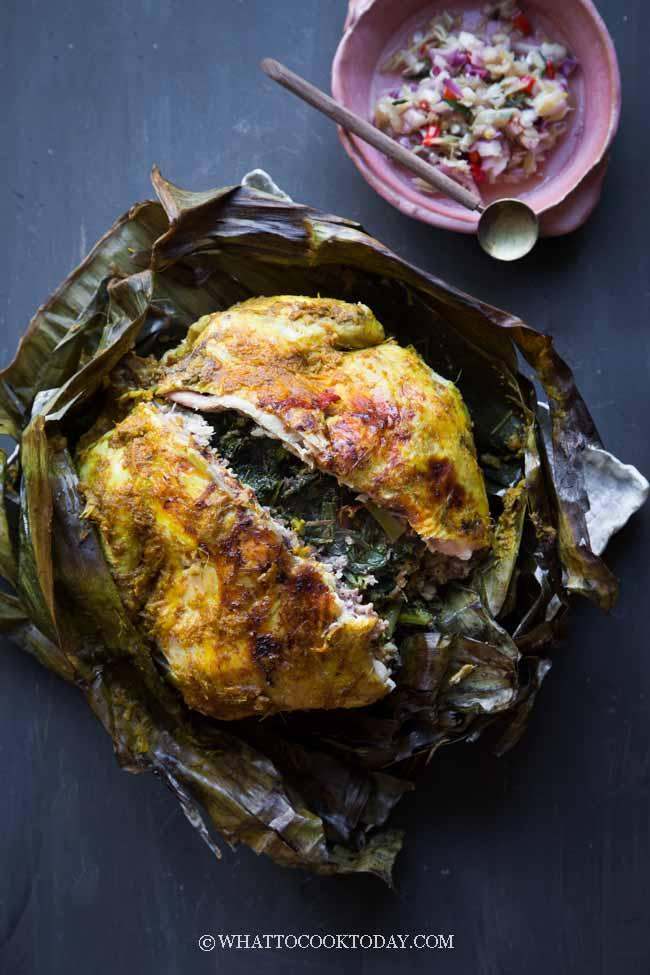ayam_betutu: (70, 300, 491, 721)
